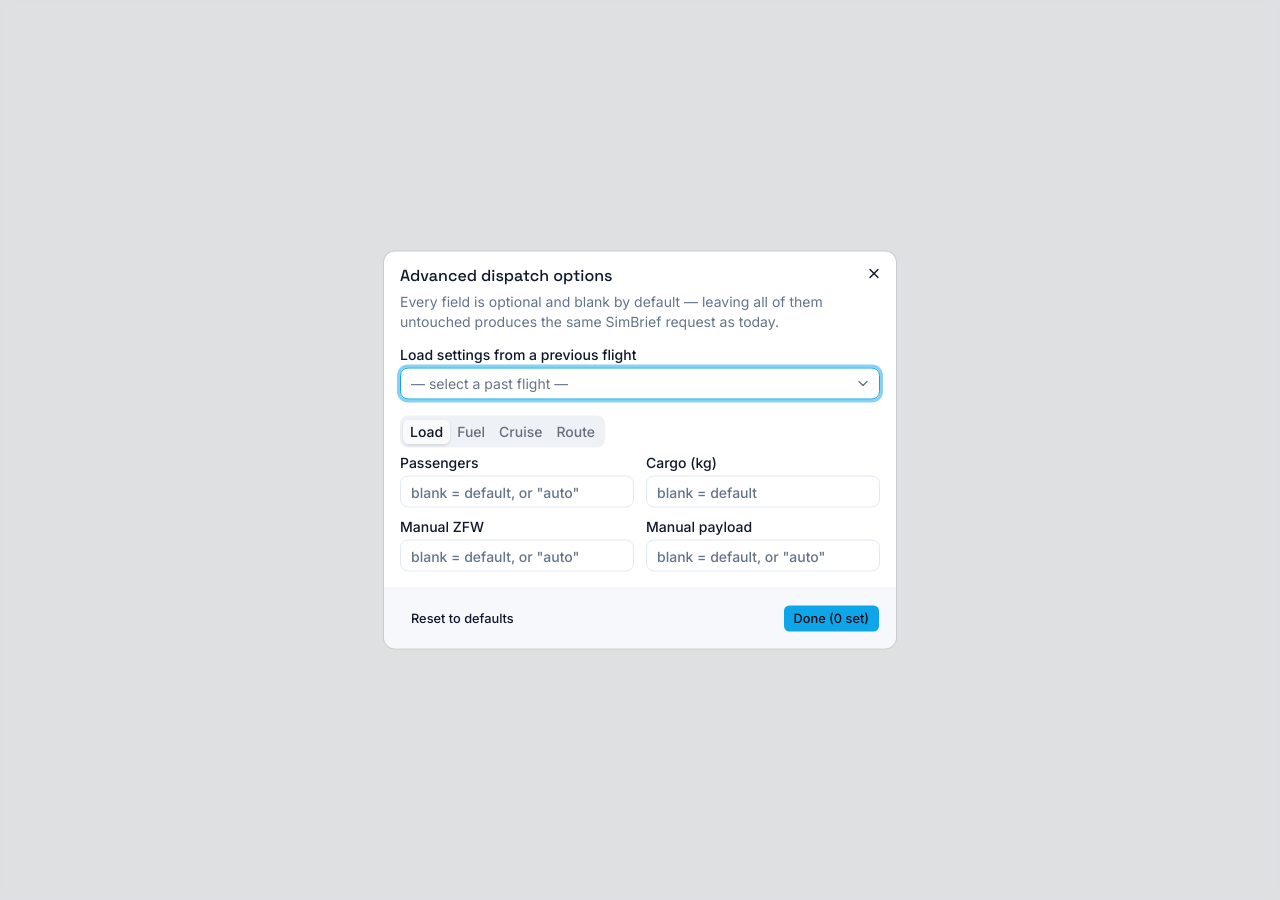
Test: DispatchAdvancedDialog › falls back to dep→arr for the "Loaded from" note when the flight has no flight number
The image size is (1280, 900).
What coordinates should you click on to do the following:
click the dropdown
I would click on:
 (490, 383)
Its box is [400,368,880,400].
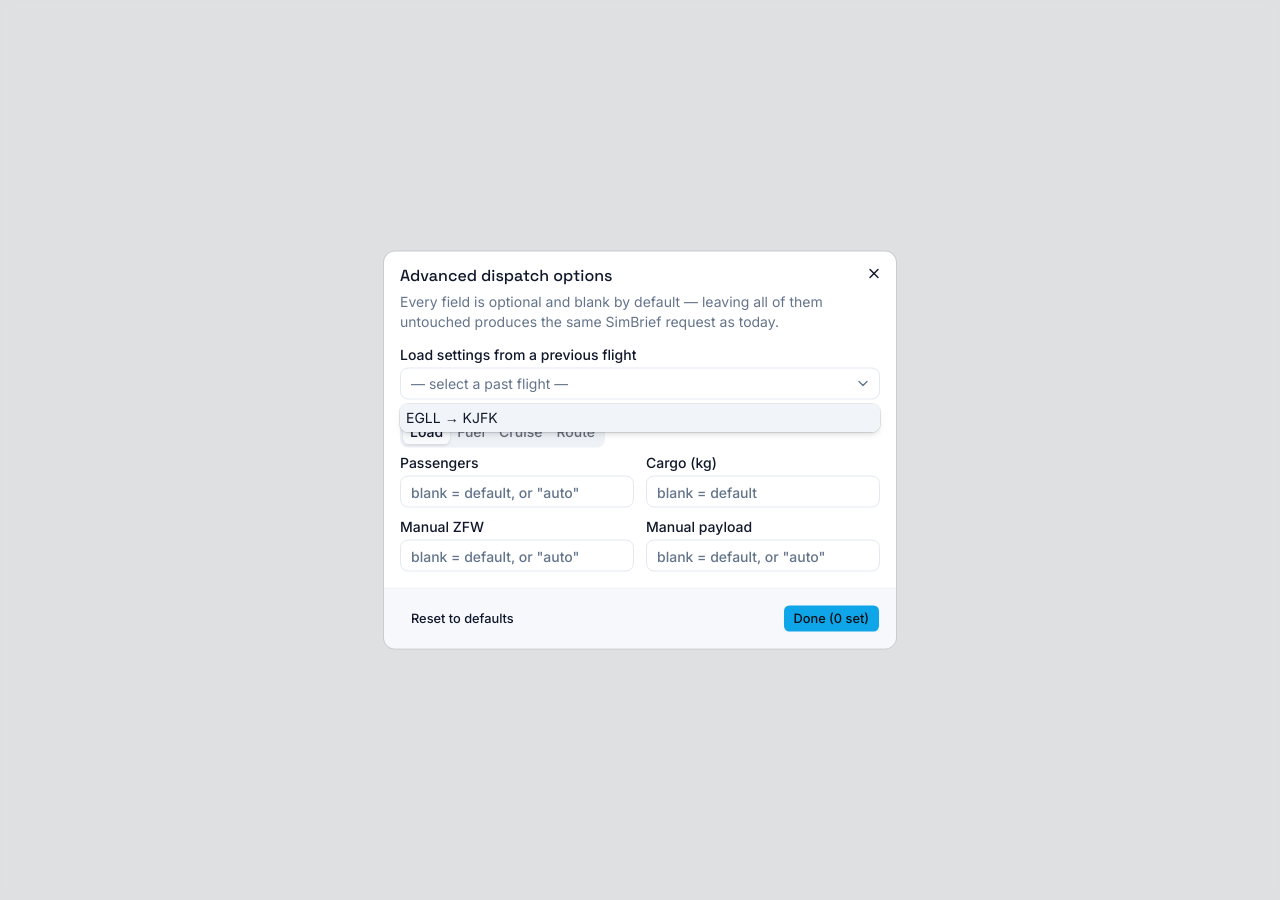
Expected: the text "EGLL → KJFK" is shown, [406,408,498,428]
What coordinates should you click on to do the following:
click the option "EGLL → KJFK"
I would click on:
 (452, 418)
Its box is [400,404,880,432].
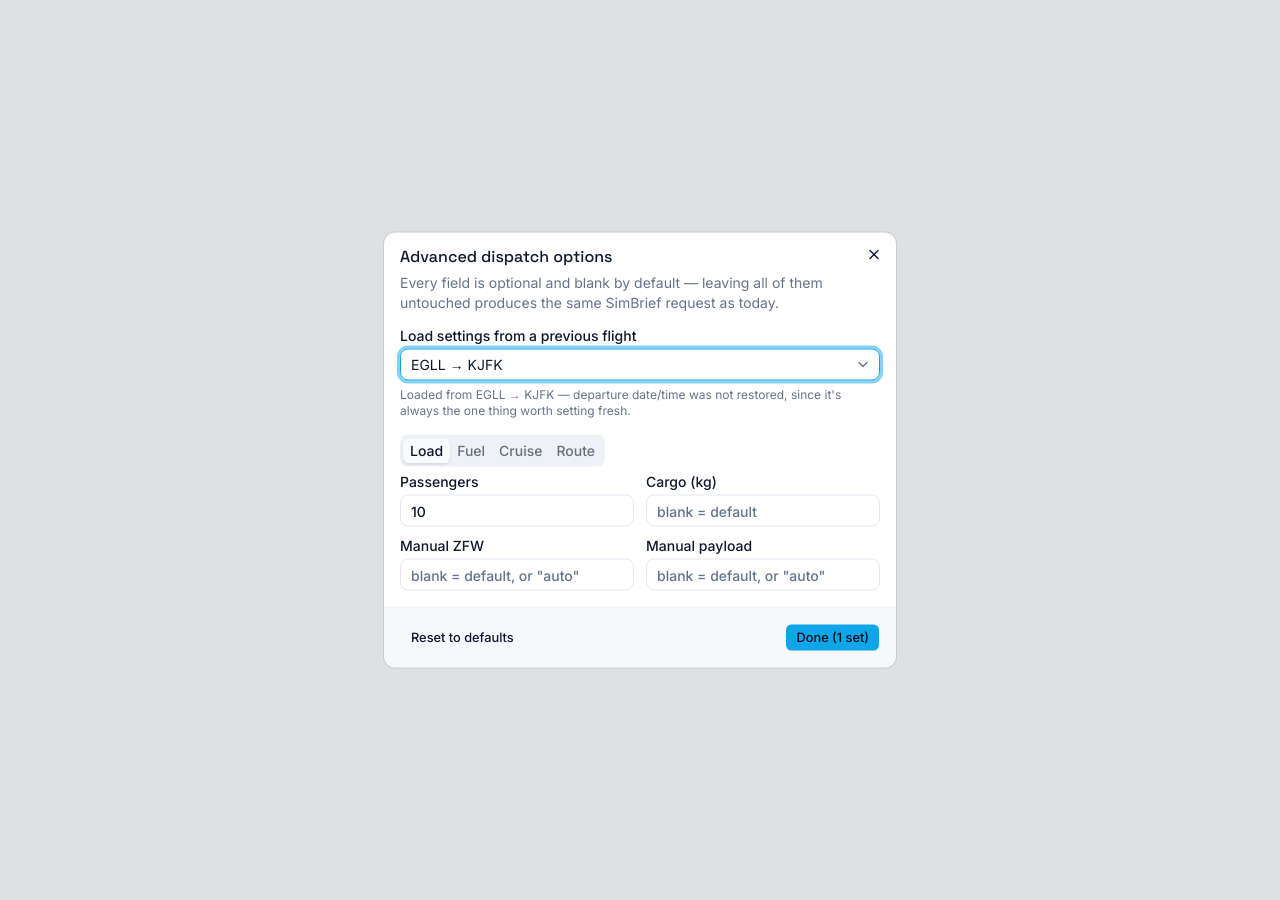
Expected: the text "Loaded from EGLL → KJFK — departure date/time was not restored, since it's always the one thing worth setting fresh." is shown, [400,386,841,418]
